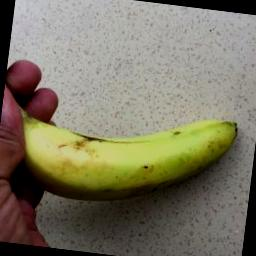Banana Ripe: (2, 90, 246, 220)
